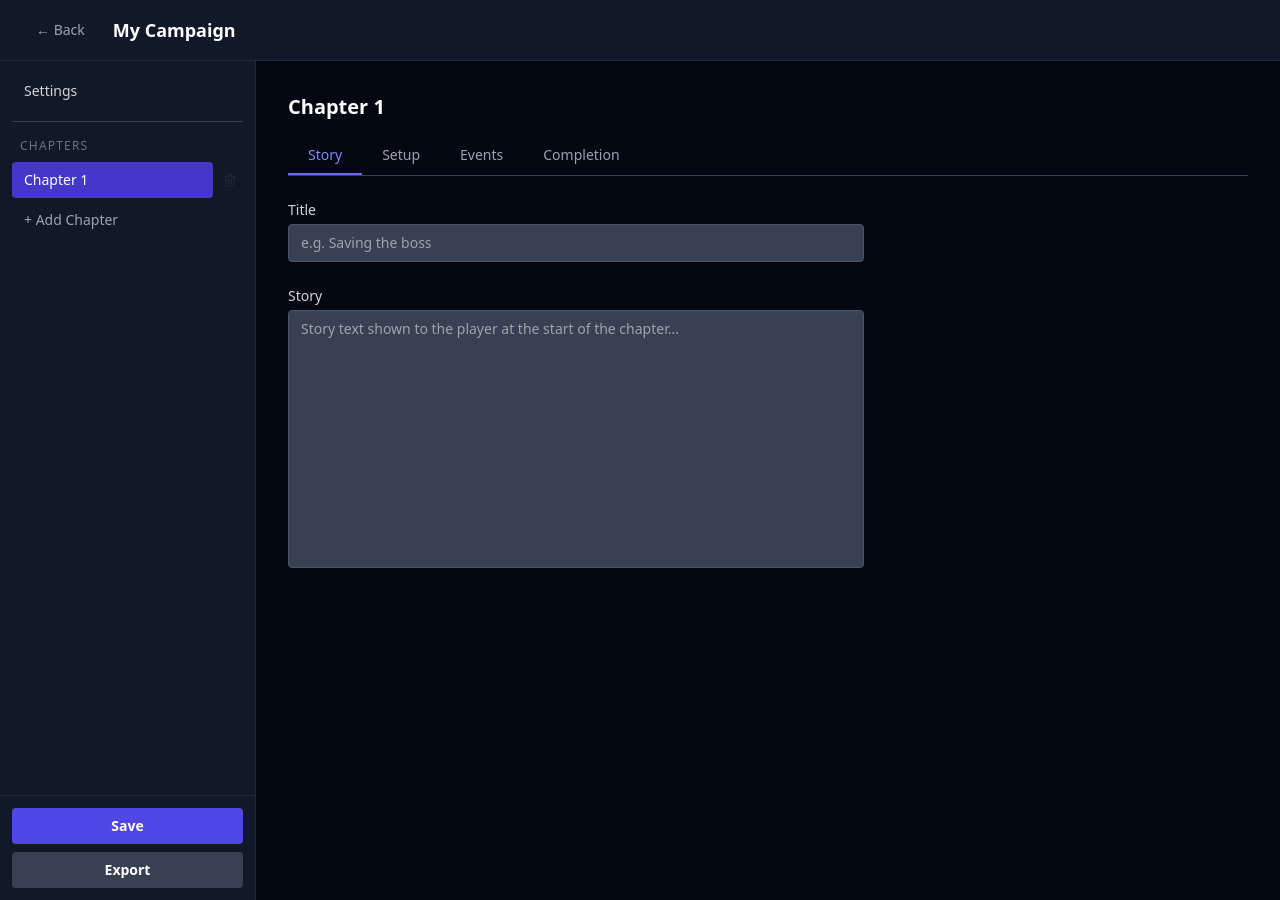
Test case: CreatorPage › Add Chapter button adds a new chapter to the sidebar
Click the button "+ Add Chapter" at coordinates (128, 220), box top-left (12, 202), bottom-right (243, 238)
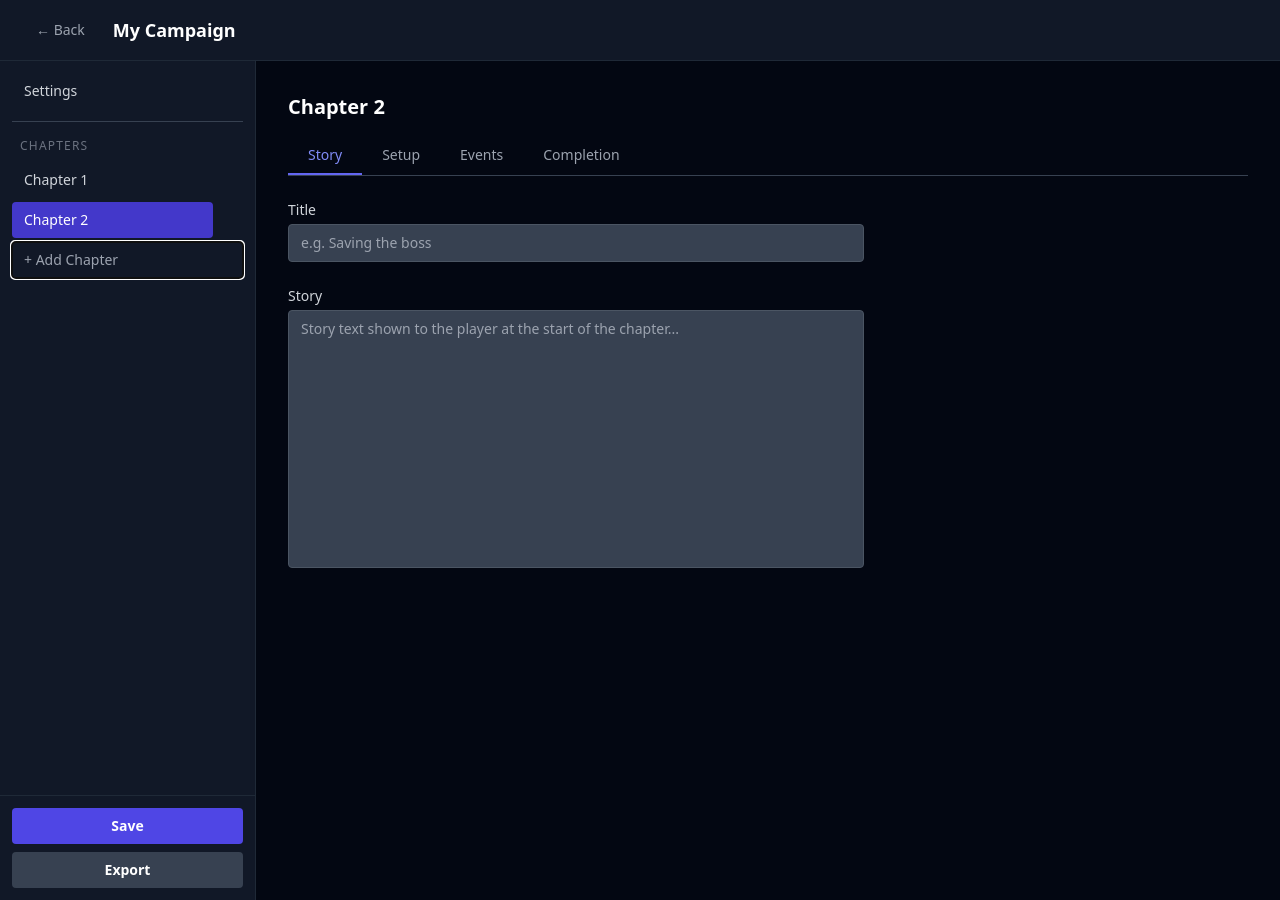
Check: the button "Chapter 2" is shown, box top-left (12, 202), bottom-right (213, 238)
